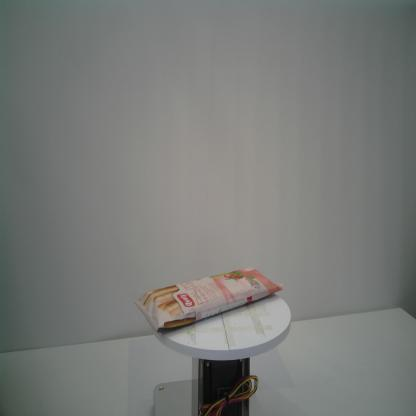Dessert: (132, 266, 285, 332)
